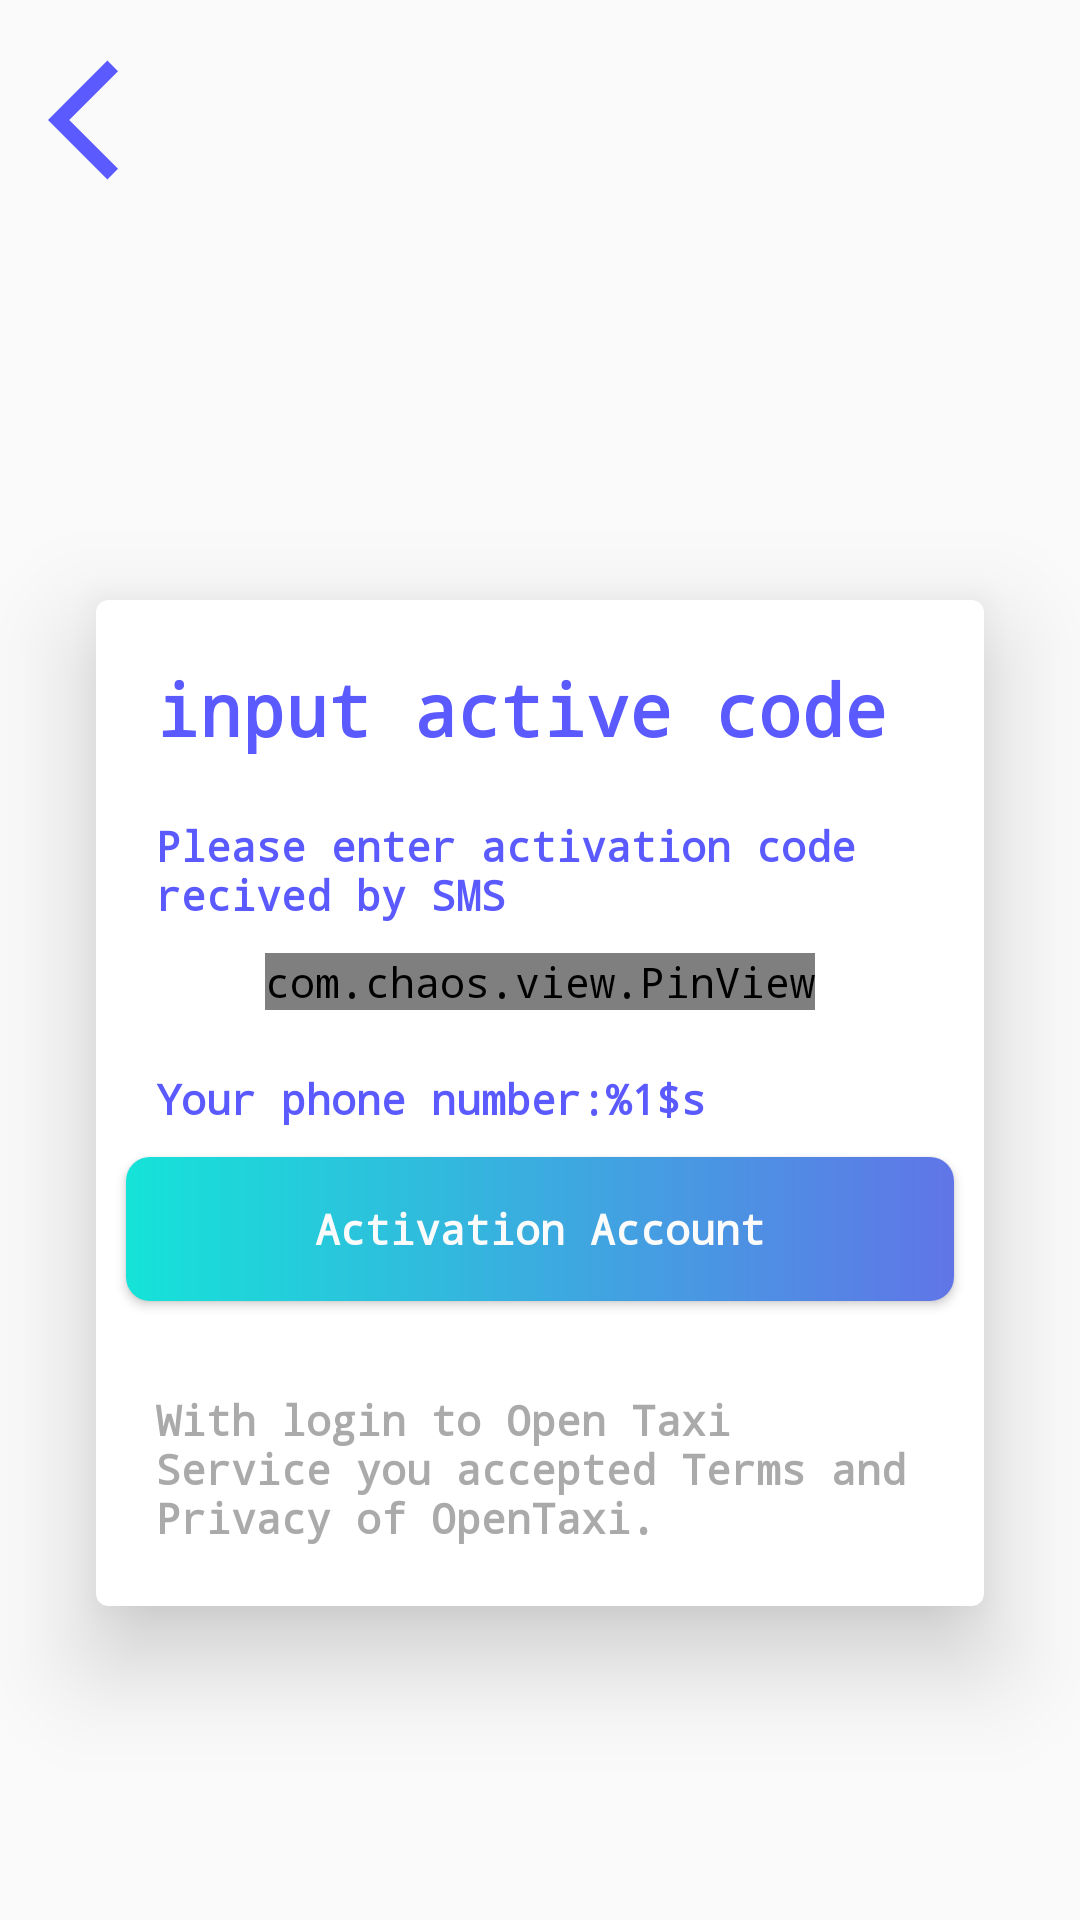

Named icons in this screenshot (1080px×1920px) and their bounding boxes, (x1, y1, x2, y2):
arrow back: (48, 60, 118, 180)
